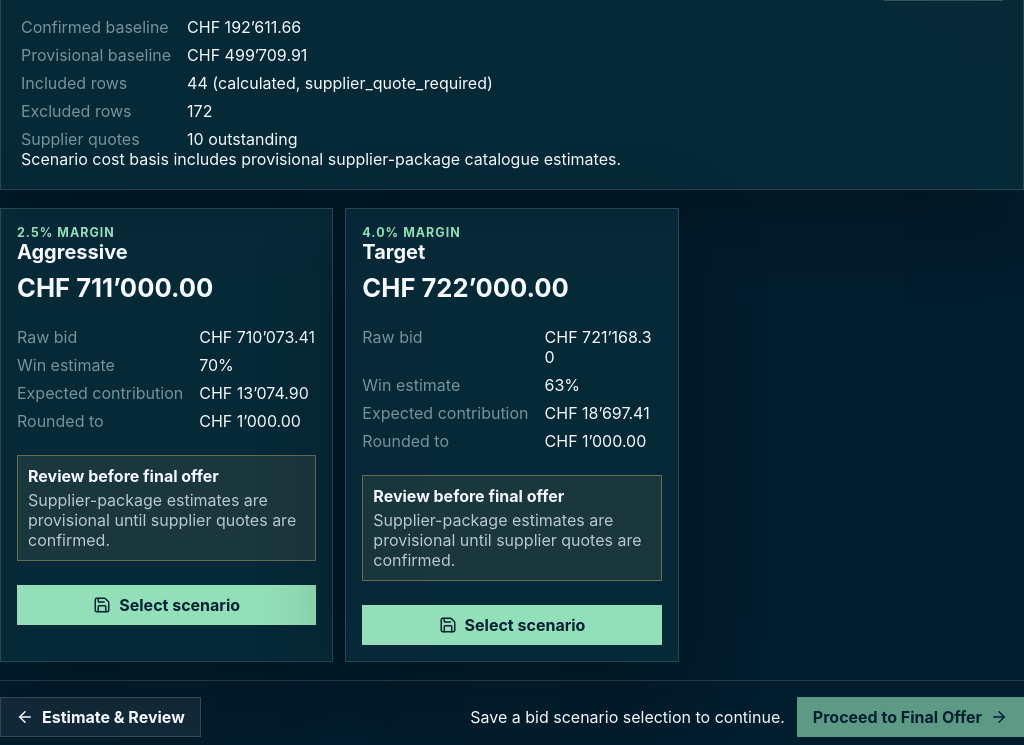
Test: BidOptimizationPage › saves scenario selection through the backend
(page scrolled)
Expected: the heading "Target" is shown, [362,240,425,264]
Step 1. Click the button "Select scenario" below "CHF 18’697.41" → point(512, 625), box [362,605,662,645]
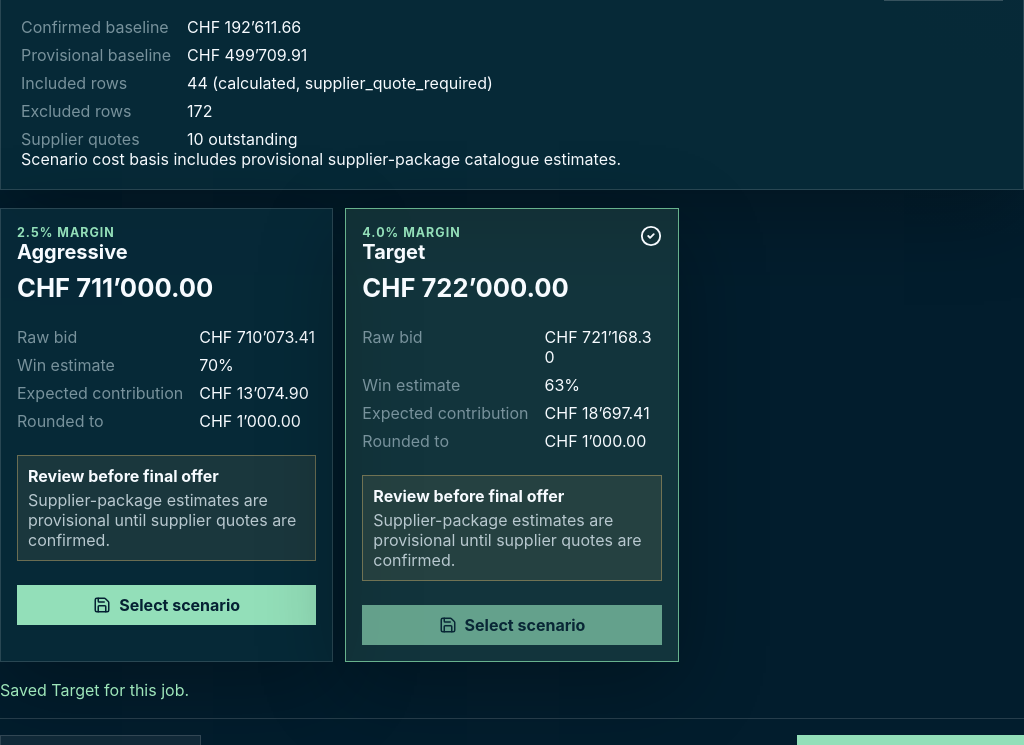
Expected: the text "Saved Target for this job." is shown, [0,680,189,700]
